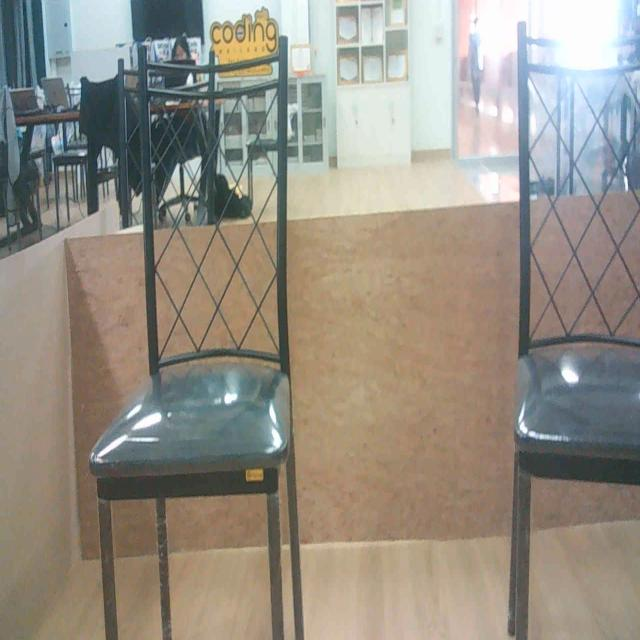emtpy: (96, 50, 306, 640), (522, 58, 640, 640)
